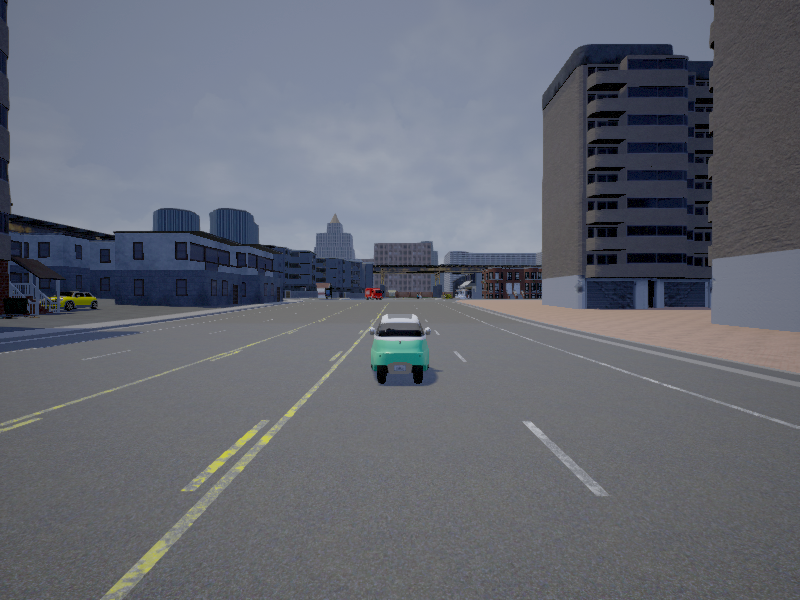Benign: (369, 313, 429, 385), (52, 291, 98, 310), (364, 287, 382, 299)
